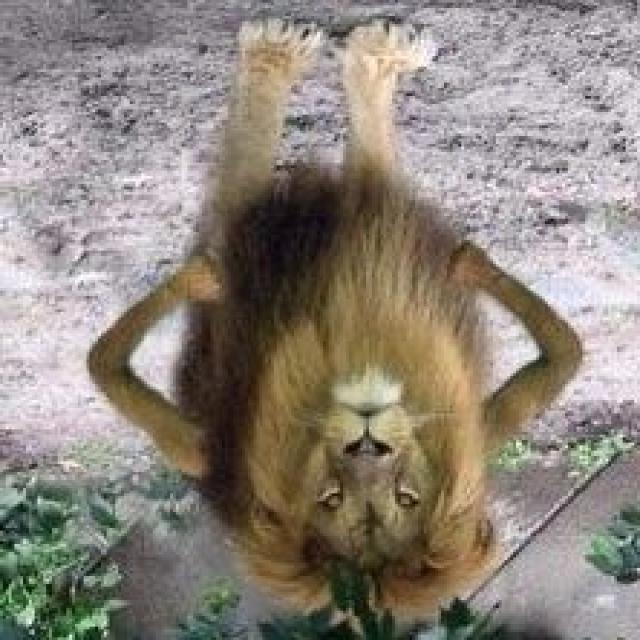lions: (0, 17, 640, 640)
